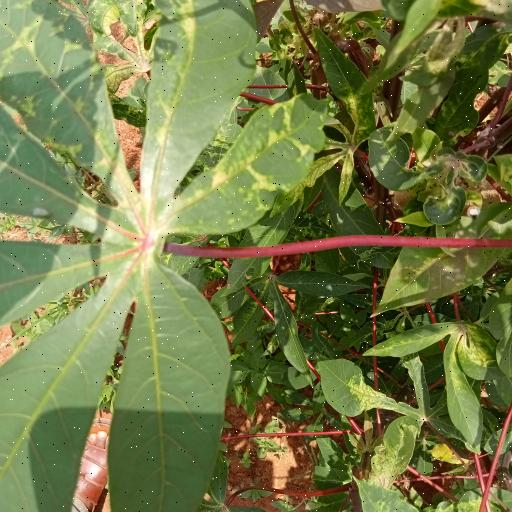Cassava_Healthy: (0, 2, 320, 511)
